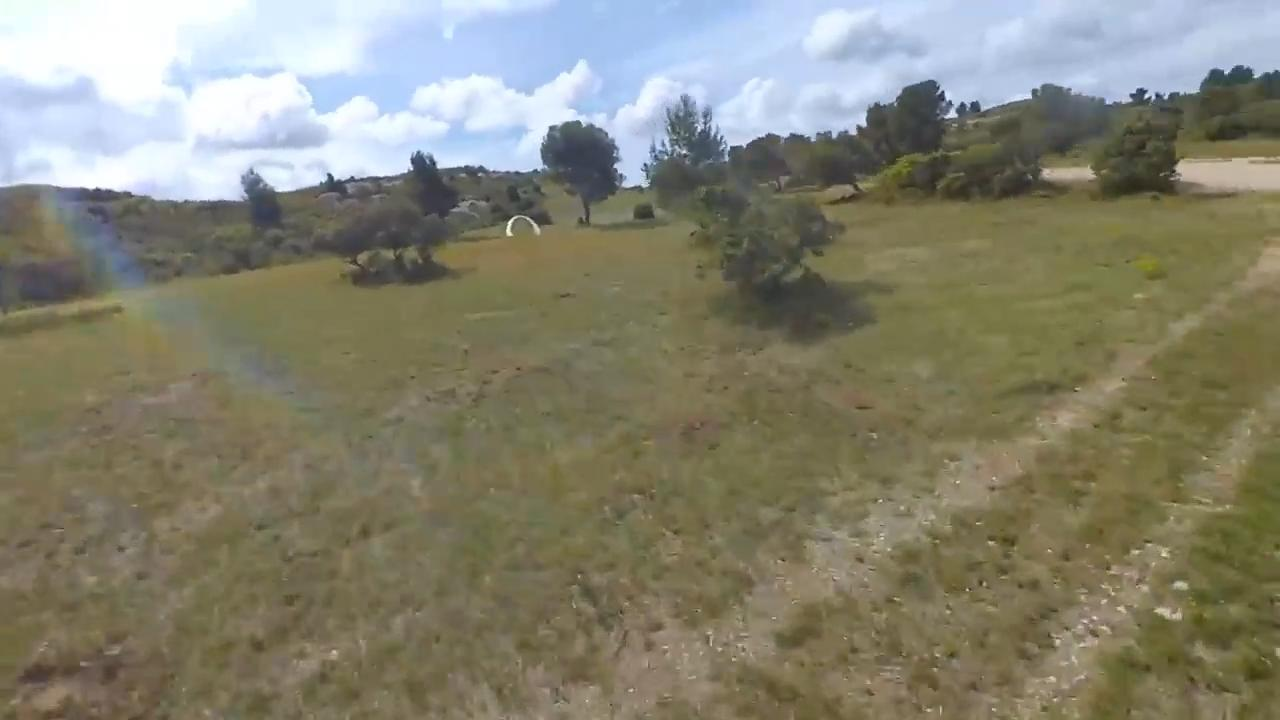gate: (506, 214, 541, 238)
